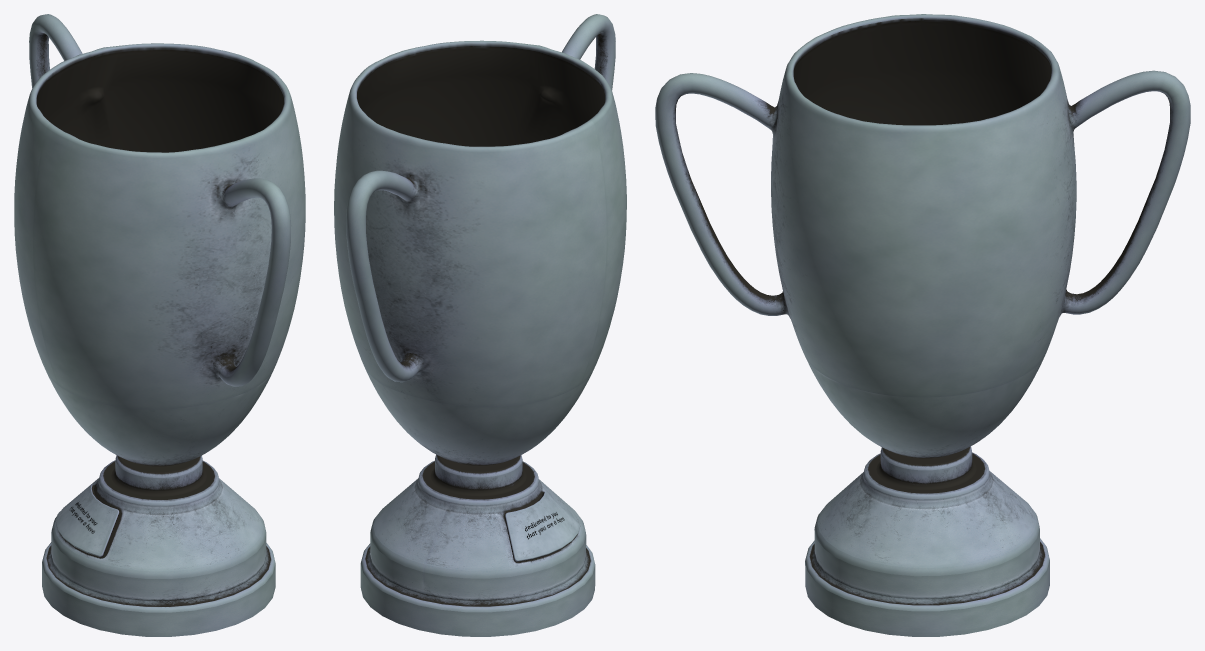
Rendered from plata.glb.
3 renders of one model, left to right at view 1: azimuth 30°, elevation 25°; view 2: azimuth 150°, elevation 25°; view 3: azimuth 270°, elevation 25°, orthographic. The views are drawn at different scales.
Parts seen in each view (by area): view 1: Copa, Base, Placa; view 2: Copa, Base, Placa; view 3: Copa, Base.
Boxes of the visible parts, bbox=[...] form: Copa: bbox=[14, 14, 305, 466]; Base: bbox=[42, 455, 275, 636]; Placa: bbox=[55, 484, 119, 557]; Copa: bbox=[334, 14, 626, 465]; Base: bbox=[360, 454, 595, 636]; Placa: bbox=[504, 491, 580, 561]; Copa: bbox=[655, 14, 1190, 458]; Base: bbox=[805, 446, 1049, 636].
Bounding box in the file's own units: 1.1 × 2.06 × 1.93.
Materials: 1 (1 with a texture image).
